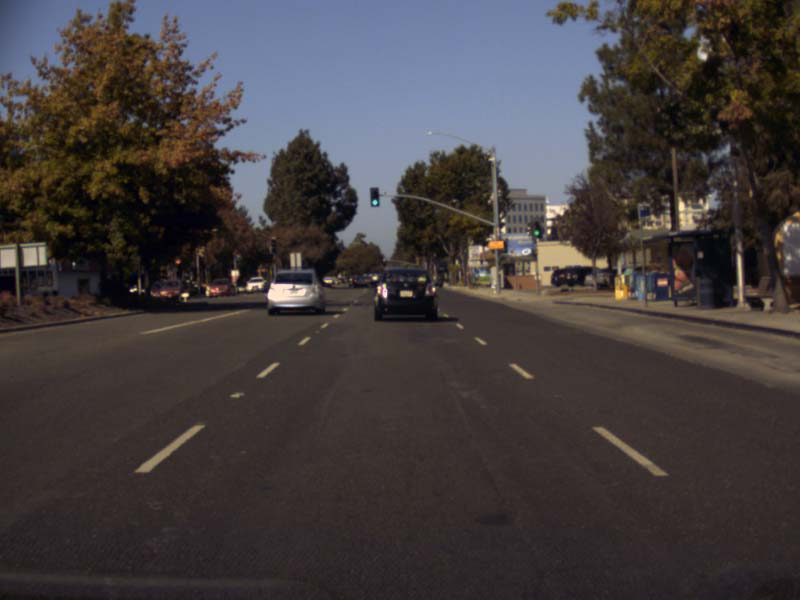Green: (532, 220, 542, 239), (370, 187, 378, 206)
